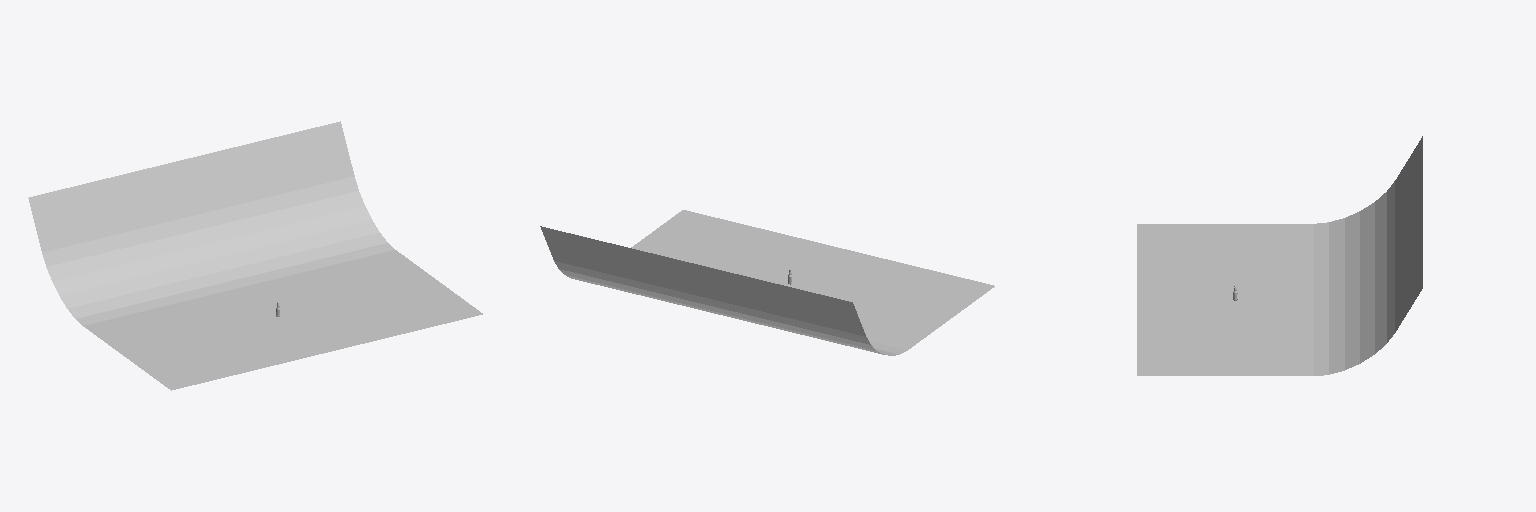
Rendered from Bottles_11.obj.
3 renders of one model, left to right at view 1: azimuth 30°, elevation 25°; view 2: azimuth 150°, elevation 25°; view 3: azimuth 270°, elevation 25°, orthographic.
Visible parts, largest first — view 1: Render_Scene; view 2: Render_Scene; view 3: Render_Scene.
Part boxes in pixels (x1,y1,x2,y2): Render_Scene: (28,121,482,390); Render_Scene: (540,210,994,355); Render_Scene: (1137,136,1422,375).
Size of the model in its own units: 4.74 by 1.28 by 3.75.